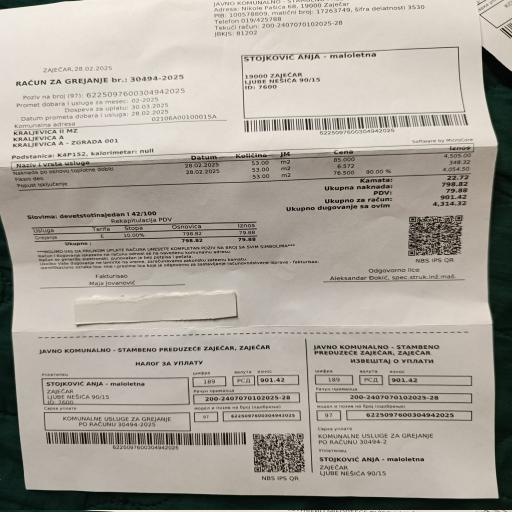racun_za_grejanje: (10, 142, 476, 212)
